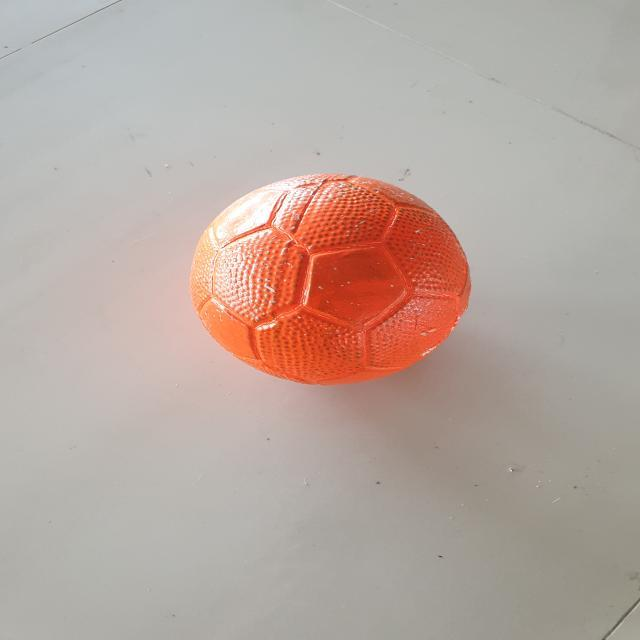bola: (172, 168, 488, 396)
